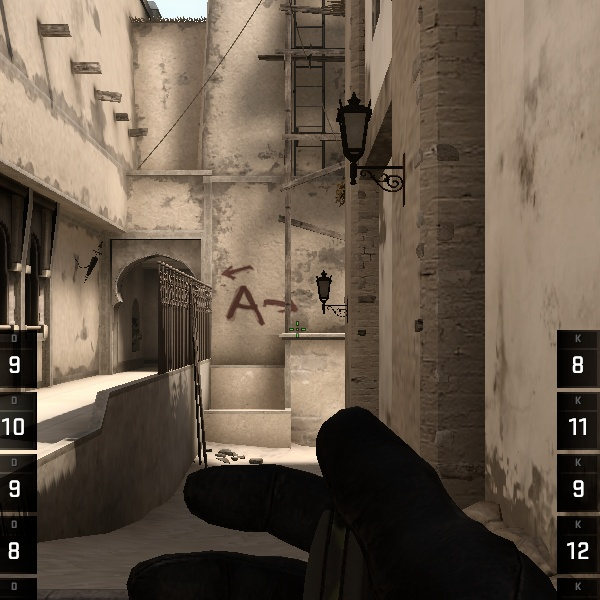t_body: (312, 265, 337, 311)
